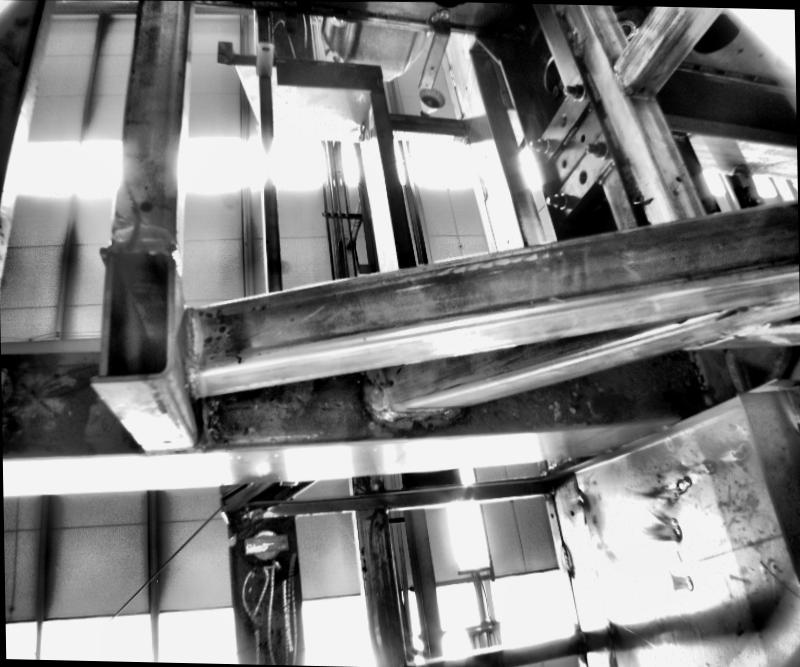bolt: (559, 78, 584, 100), (583, 139, 610, 156), (542, 190, 565, 207), (526, 136, 547, 150)
bracket: (524, 71, 623, 220), (416, 6, 452, 91), (253, 29, 273, 77)
hole: (137, 196, 155, 213), (556, 112, 568, 125), (381, 376, 395, 387), (577, 167, 587, 182), (558, 156, 566, 166), (578, 132, 585, 142), (160, 436, 170, 443), (674, 173, 680, 181), (260, 44, 268, 50), (428, 63, 435, 69), (568, 507, 574, 513), (423, 80, 428, 84), (548, 509, 552, 514), (505, 237, 508, 240), (464, 83, 465, 86)
welding: (372, 403, 456, 420), (182, 306, 202, 370), (366, 366, 390, 416), (558, 540, 572, 572), (624, 91, 653, 104), (445, 65, 456, 86), (428, 10, 448, 19)
